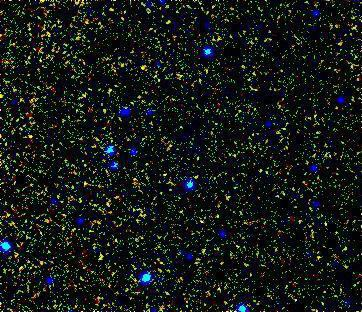star: (129, 48, 159, 78)
